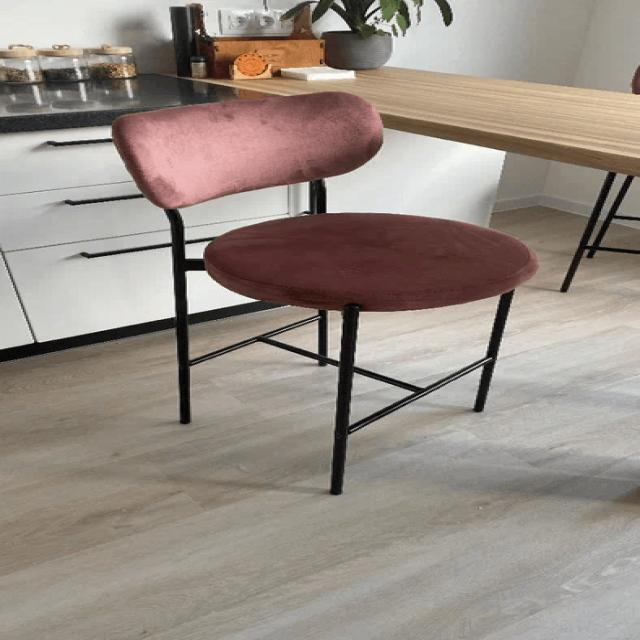chair: (100, 90, 540, 493), (120, 89, 534, 312)
